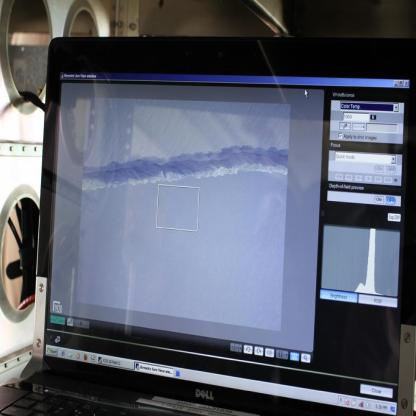board: (0, 32, 416, 416)
